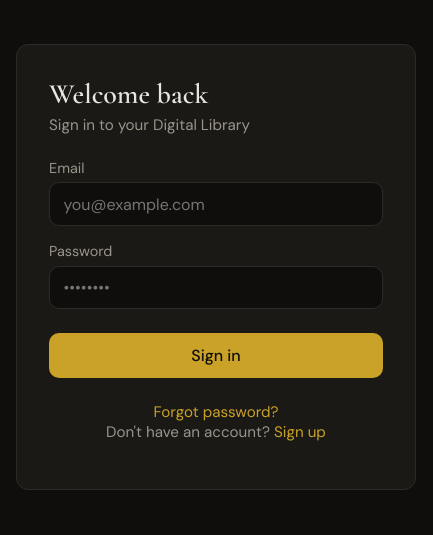
it: Login › shows error when login fails
Type "a@b.com" into the field with placeholder "you@example.com" at (216, 204), box x1=49 y1=182 x2=383 y2=226
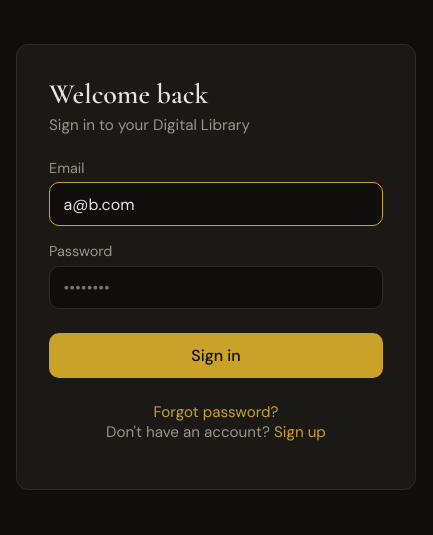
Type "wrong" into the password field with placeholder "••••••••" at (216, 287), box x1=49 y1=266 x2=383 y2=309
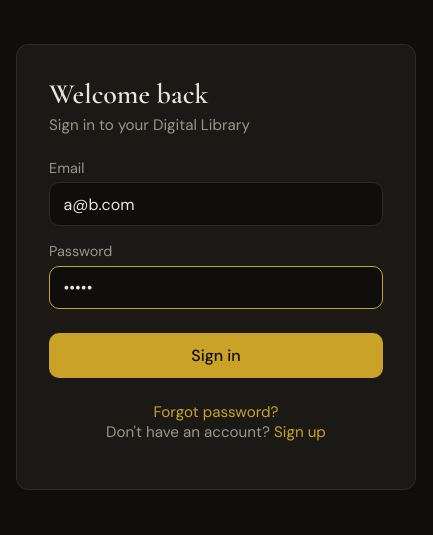
Click the button "Sign in" at (216, 356), box x1=49 y1=333 x2=383 y2=378
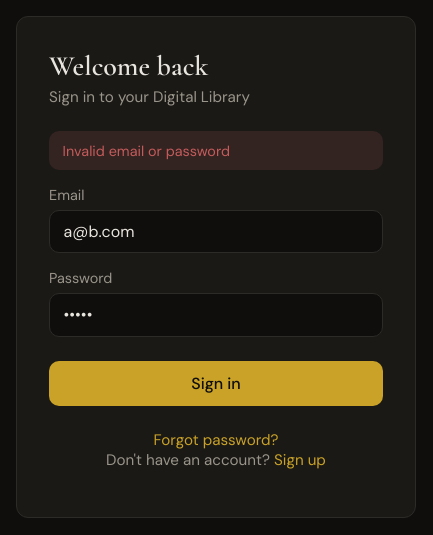
expect the text "Invalid email or password" is shown: met, box x1=49 y1=131 x2=383 y2=170
